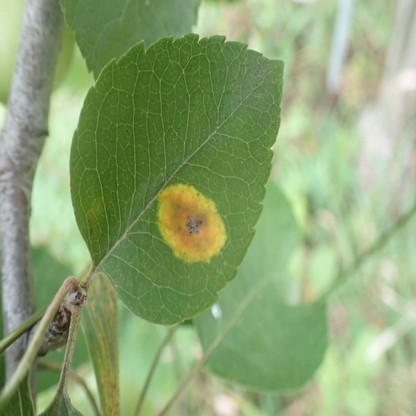rust: (158, 186, 226, 262)
